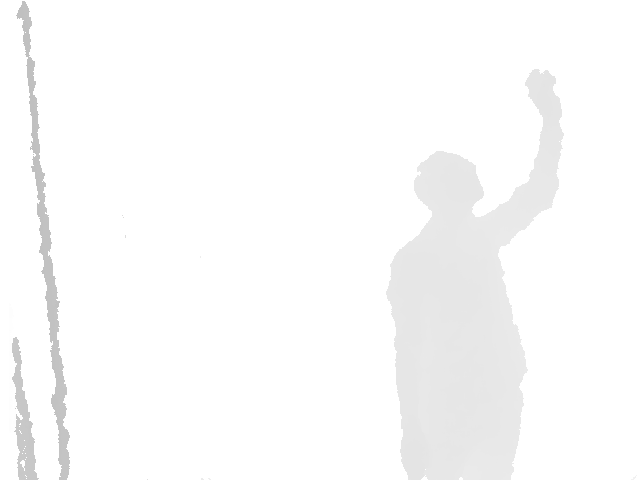hand: (524, 68, 562, 120)
head: (413, 152, 485, 211)
person: (387, 68, 565, 480)
